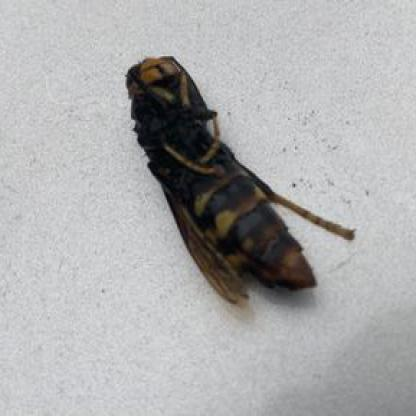Asian Hornet: (102, 27, 338, 316)
